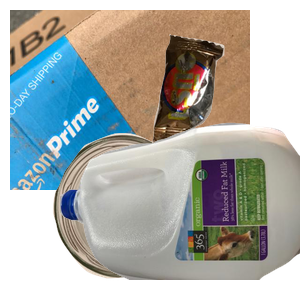cardboard: (10, 10, 250, 190)
glass: (50, 131, 252, 300)
plastic: (60, 120, 300, 300)
trash: (150, 32, 300, 172)
